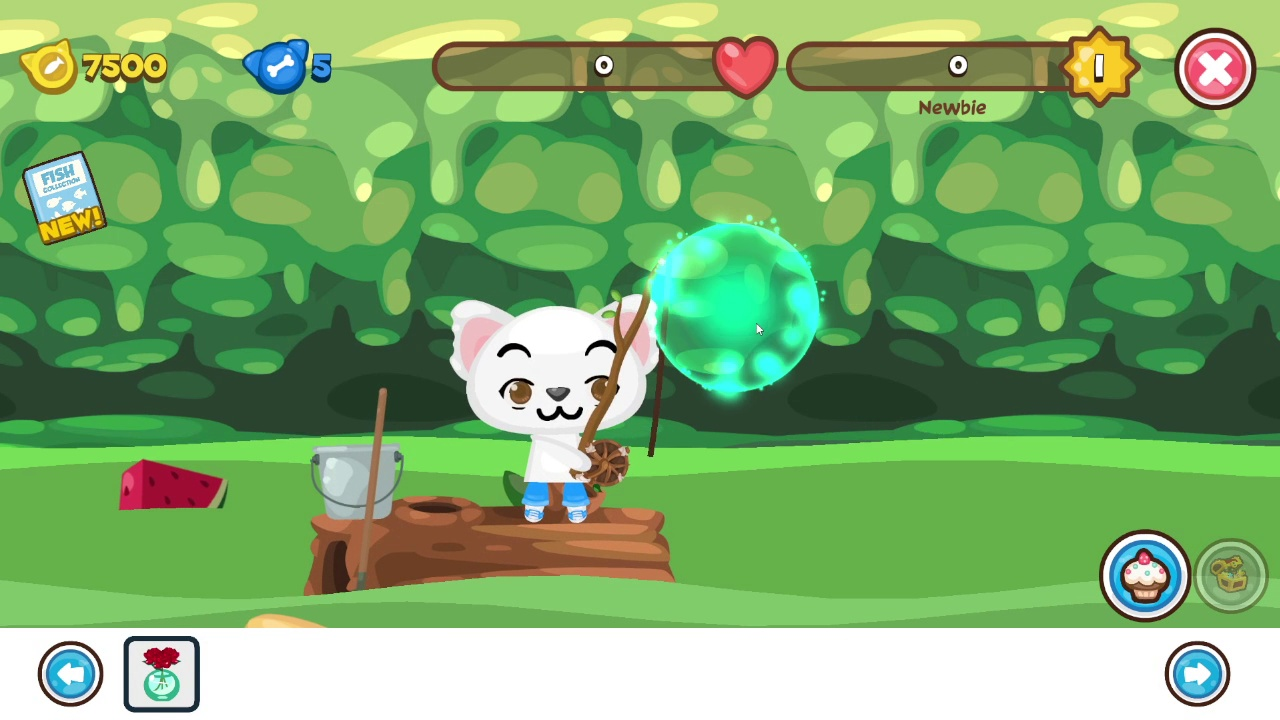point: (652, 224, 818, 393)
